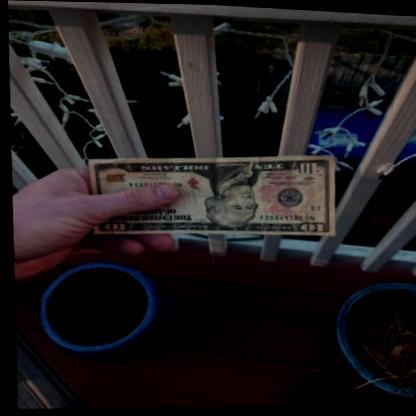dollar_front: (86, 145, 336, 250)
